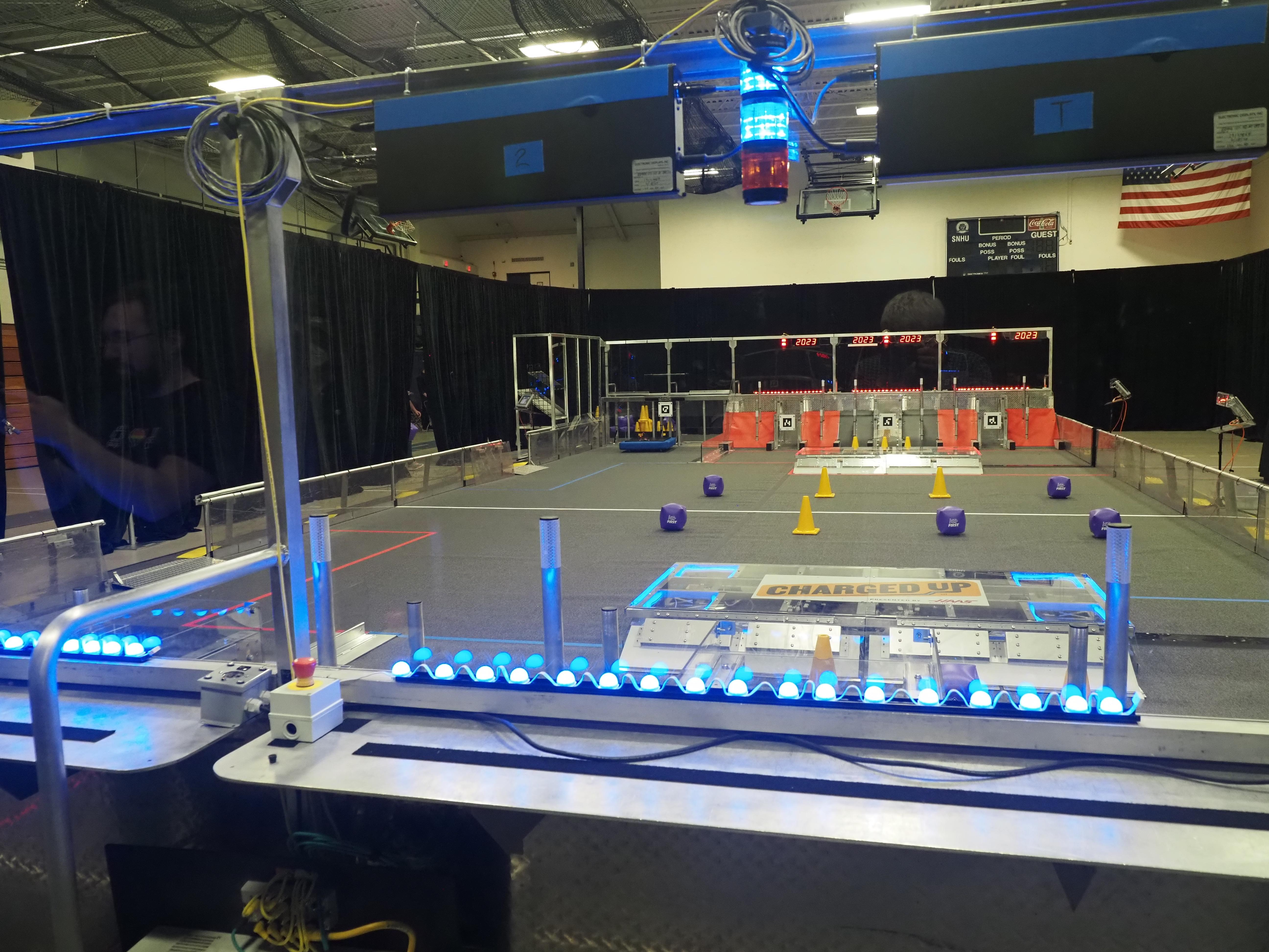cone: (796, 629, 847, 688), (793, 496, 821, 535), (928, 468, 953, 497), (815, 468, 835, 498), (635, 399, 651, 422), (876, 432, 891, 451), (848, 433, 863, 451), (666, 420, 676, 440), (902, 435, 914, 449), (634, 417, 643, 435), (646, 419, 656, 432)
cube: (935, 506, 971, 534), (658, 503, 689, 534), (1092, 509, 1124, 537), (1045, 473, 1073, 498), (700, 475, 726, 495)
robot: (614, 438, 682, 454)
